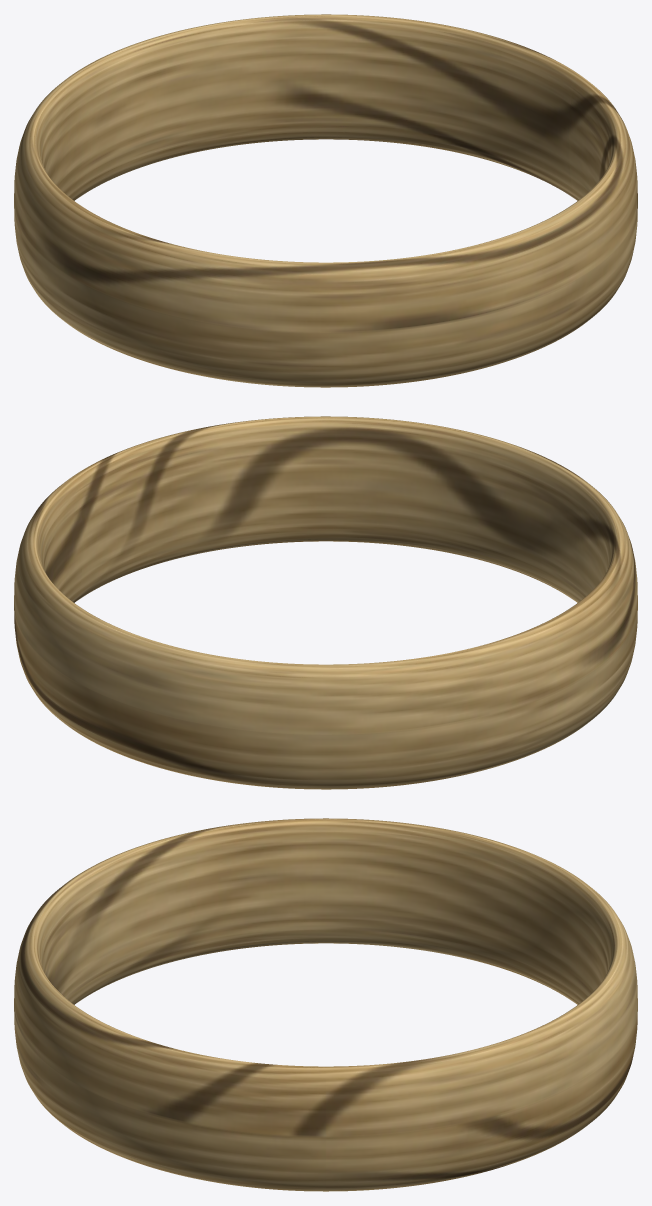
Rendered from oliwka.glb.
3 renders of one model, top to bottom at view 1: azimuth 30°, elevation 25°; view 2: azimuth 150°, elevation 25°; view 3: azimuth 270°, elevation 25°, orthographic.
Visible parts, largest first — view 1: obrecz.001; view 2: obrecz.001; view 3: obrecz.001.
Boxes of the visible parts, box(x1,y1,x2,y2) form: obrecz.001: box(14, 14, 637, 387); obrecz.001: box(14, 416, 637, 789); obrecz.001: box(14, 818, 637, 1191).
Bounding box in the file's own units: 6.82 × 1.5 × 6.82.
1 material, 1 textured.
